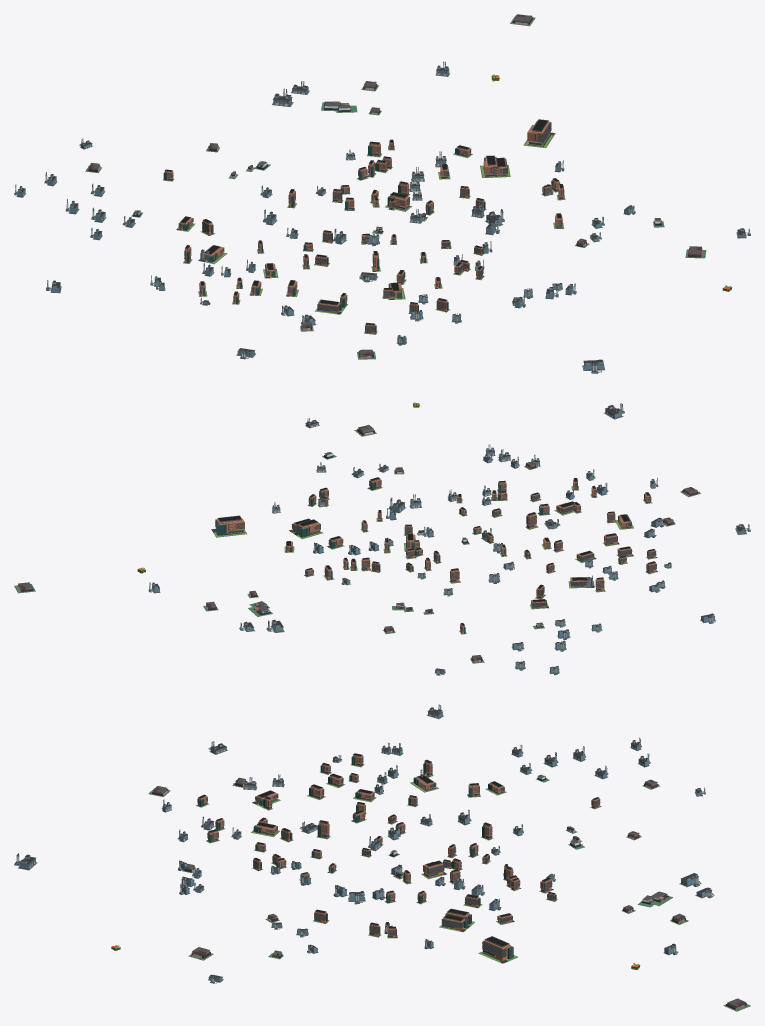
File: paris2.glb
The picture shows the model from 3 angles, top to bottom: view 1: azimuth 30°, elevation 25°; view 2: azimuth 150°, elevation 25°; view 3: azimuth 270°, elevation 25°; orthographic projection. The views are drawn at different scales.
Visible parts, largest first — view 1: paris; view 2: paris; view 3: paris.
Part boxes in pixels (x1=…): paris: x1=14, y1=14, x2=750, y2=373; paris: x1=14, y1=402, x2=750, y2=675; paris: x1=14, y1=704, x2=750, y2=1011.
Size of the model in its own units: 1543 by 36.35 by 1601.
8 materials, 8 textured.
